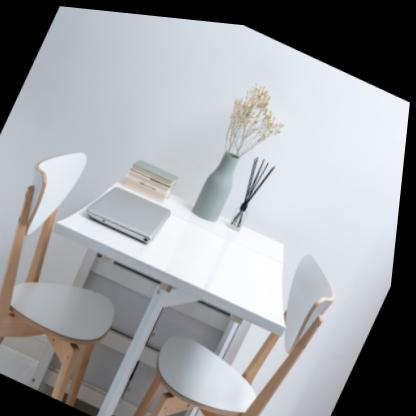Dining Table: (0, 110, 388, 416)
